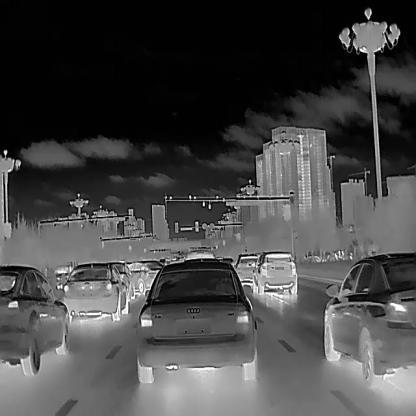car: (137, 257, 258, 384), (323, 250, 416, 385), (0, 263, 69, 377), (61, 262, 129, 322), (253, 249, 297, 295), (128, 260, 163, 294), (107, 260, 133, 301), (234, 252, 261, 286)
